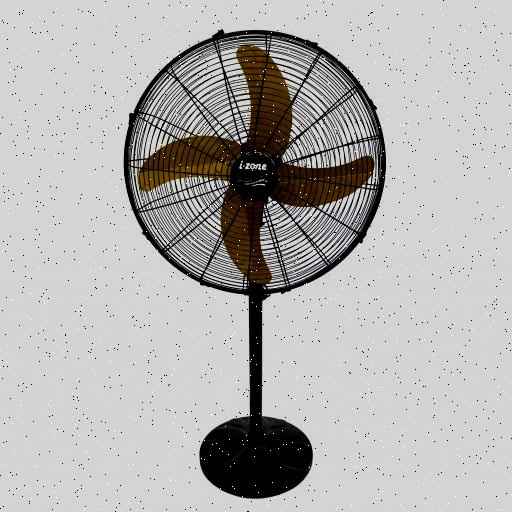Fan: (123, 28, 388, 297)
